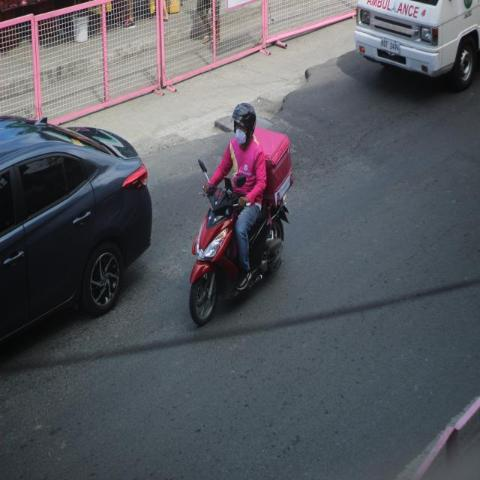car: (0, 111, 153, 343)
motorcycle: (188, 100, 295, 328)
van: (352, 0, 480, 87)
